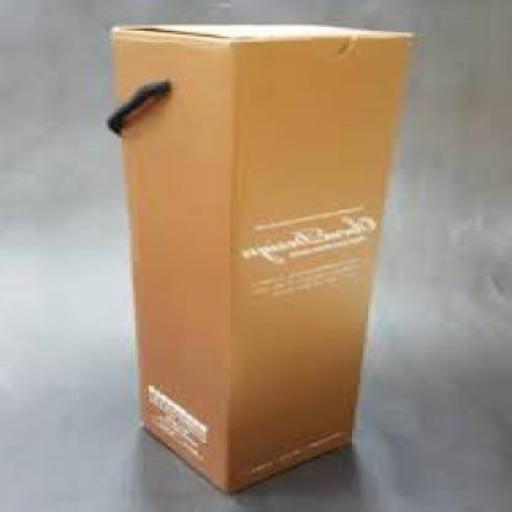cardboard: (114, 21, 414, 493)
